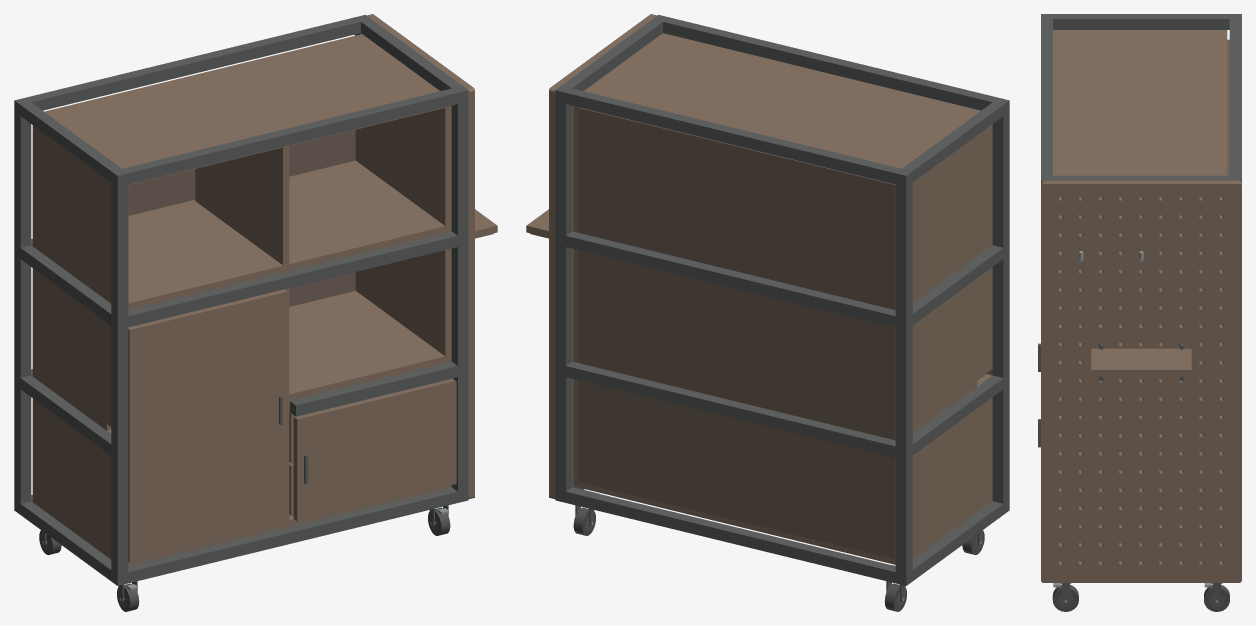
Rendered from inside-closed.glb.
3 renders of one model, left to right at view 1: azimuth 30°, elevation 25°; view 2: azimuth 150°, elevation 25°; view 3: azimuth 270°, elevation 25°, orthographic. The views are drawn at different scales.
Parts seen in each view (by area): view 1: left-tall-door, shelf-3, shelf-2, right-low-door, shelf-1, side-left-2, side-left-1, side-left-0, side-right-2, partition-2, profile-post-0-0, profile-post-0-470 (+15 smaller); view 2: back-panel, shelf-3, side-left-2, side-left-1, side-left-0, profile-post-0-470, profile-post-952-470, profile-post-0-0, profile-cross-3-470, profile-cross-0-470, profile-cross-1-470, profile-cross-2-470 (+11 smaller); view 3: pegboard-full-right, shelf-3, accessory-shelf, profile-depth-3-0, profile-cross-3-470, profile-cross-3-0, profile-depth-3-952, back-panel, caster-1-tire, caster-3-tire, side-right-2.
Boxes of the visible parts, <box> form: left-tall-door: <box>128,289,287,563</box>; shelf-3: <box>44,34,451,184</box>; shelf-2: <box>32,160,451,309</box>; right-low-door: <box>293,378,456,522</box>; shelf-1: <box>32,291,451,430</box>; side-left-2: <box>32,125,128,302</box>; side-left-1: <box>32,268,111,426</box>; side-left-0: <box>32,398,111,552</box>; side-right-2: <box>355,106,451,225</box>; partition-2: <box>195,146,289,265</box>; profile-post-0-0: <box>111,169,128,585</box>; profile-post-0-470: <box>14,98,31,514</box>; back-panel: <box>578,107,895,559</box>; shelf-3: <box>584,33,980,168</box>; side-left-2: <box>912,124,992,296</box>; side-left-1: <box>912,267,992,426</box>; side-left-0: <box>912,374,992,552</box>; profile-post-0-470: <box>895,169,912,585</box>; profile-post-952-470: <box>555,85,572,502</box>; profile-post-0-0: <box>992,98,1009,514</box>; profile-cross-3-470: <box>566,88,901,184</box>; profile-cross-0-470: <box>566,487,895,583</box>; profile-cross-1-470: <box>566,361,895,457</box>; profile-cross-2-470: <box>566,231,895,327</box>; pegboard-full-right: <box>1041,180,1241,582</box>; shelf-3: <box>1053,30,1227,175</box>; accessory-shelf: <box>1091,348,1191,376</box>; profile-depth-3-0: <box>1053,14,1229,29</box>; profile-cross-3-470: <box>1229,19,1241,175</box>; profile-cross-3-0: <box>1041,19,1052,175</box>; profile-depth-3-952: <box>1053,175,1229,180</box>; back-panel: <box>1227,39,1229,175</box>; caster-1-tire: <box>1052,584,1078,611</box>; caster-3-tire: <box>1204,584,1229,611</box>; side-right-2: <box>1059,196,1223,306</box>.
Size of the model in its own units: 1.13 by 1.2 by 0.507.
